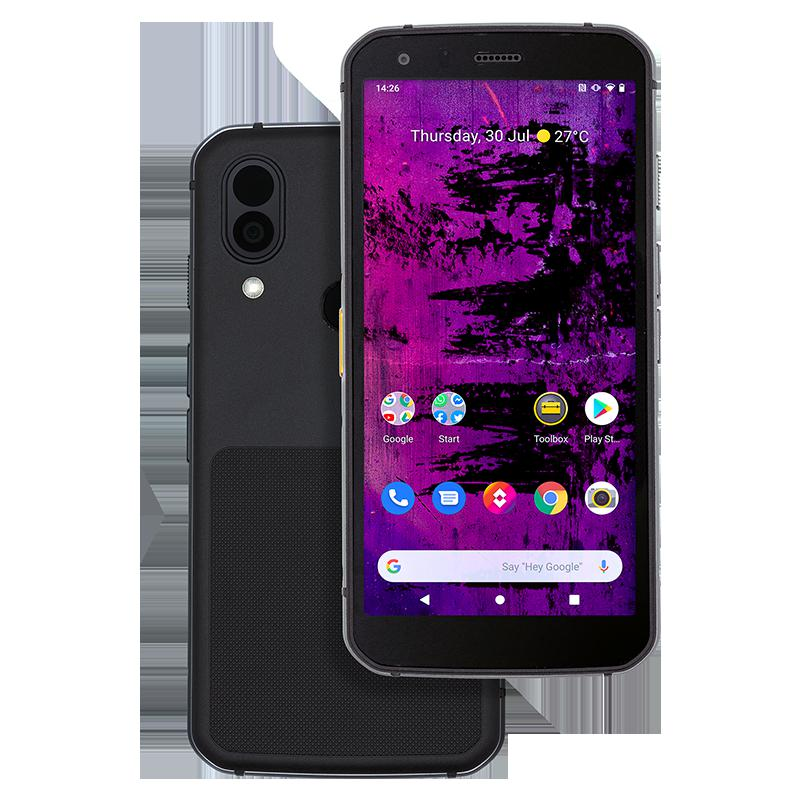Smartphone: (174, 108, 500, 771), (340, 19, 655, 665)
